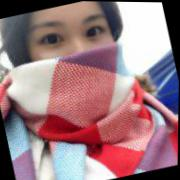WRONG: (18, 1, 131, 122)
